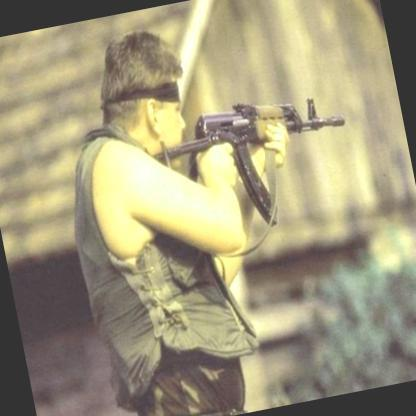rifle: (141, 80, 362, 246)
